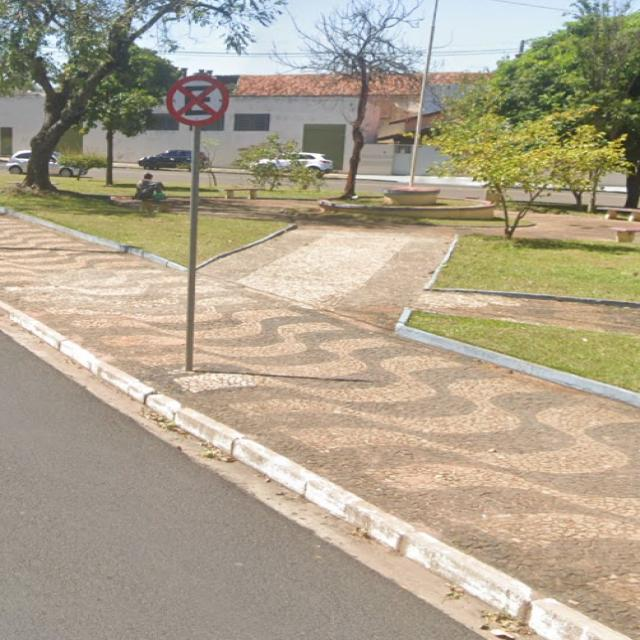no parking: (157, 66, 239, 136)
